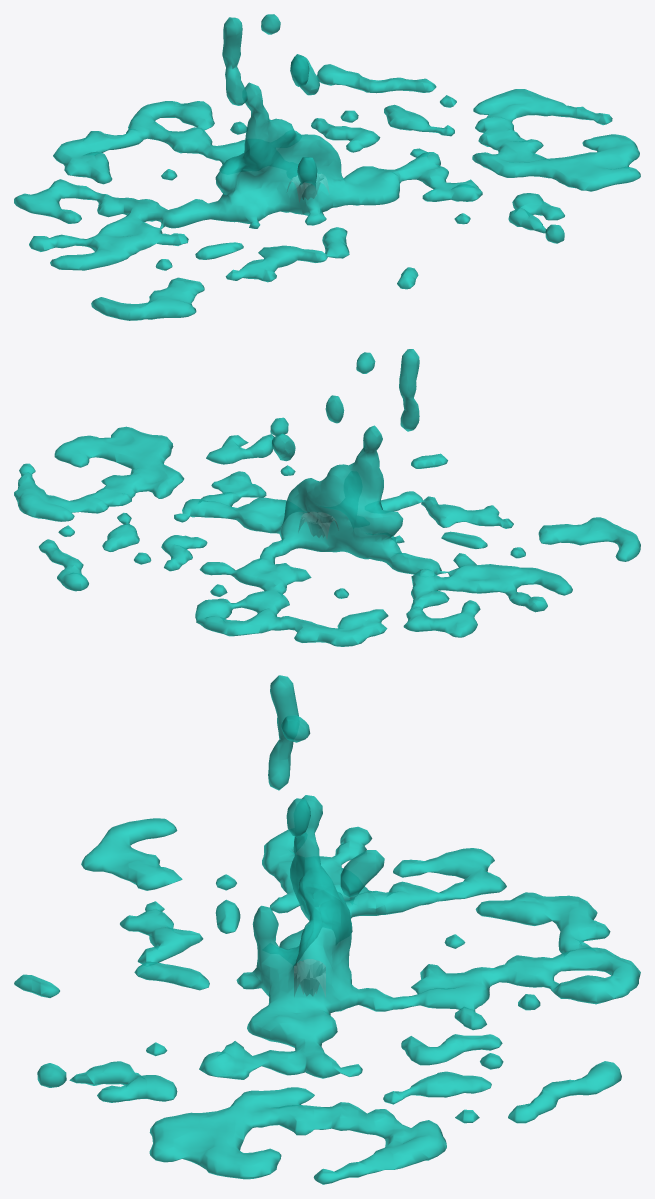
3 renders of one model, top to bottom at view 1: azimuth 30°, elevation 25°; view 2: azimuth 150°, elevation 25°; view 3: azimuth 270°, elevation 25°, orthographic. The views are drawn at different scales.
Visible parts, largest first — view 1: Liquid_Domain, グリッド; view 2: Liquid_Domain, グリッド; view 3: Liquid_Domain, グリッド.
Part boxes in pixels (x1=…): Liquid_Domain: x1=14, y1=14, x2=640, y2=320; グリッド: x1=287, y1=173, x2=329, y2=201; Liquid_Domain: x1=14, y1=349, x2=640, y2=646; グリッド: x1=298, y1=512, x2=338, y2=538; Liquid_Domain: x1=14, y1=675, x2=640, y2=1184; グリッド: x1=294, y1=959, x2=325, y2=996.
Size of the model in its own units: 7.95 by 2.8 by 5.88.
